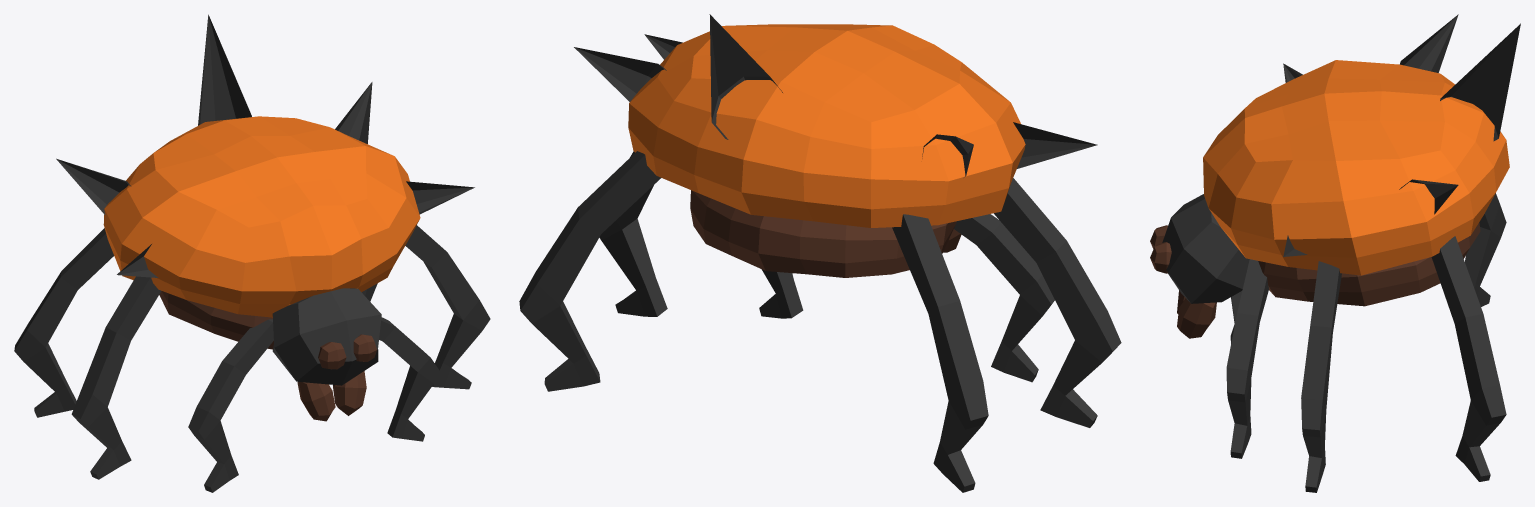
File: soldier.glb
The picture shows the model from 3 angles, left to right: view 1: azimuth 30°, elevation 25°; view 2: azimuth 150°, elevation 25°; view 3: azimuth 270°, elevation 25°; orthographic projection. The views are drawn at different scales.
Parts seen in each view (by area): view 1: Cube, Plane.001, Plane, Cube.001, Cube.004, Cube.003, Cube.006, Cube.005, Cube.002, Cube.007; view 2: Cube, Plane.001, Cube.006, Plane, Cube.004, Cube.003, Cube.002; view 3: Cube, Plane.001, Cube.001, Cube.006, Plane, Cube.004, Cube.003, Cube.005, Cube.007, Cube.002.
Part boxes in pixels (left/top/right/bottom): Cube: left=103, top=116, right=420, bottom=317; Plane.001: left=14, top=225, right=490, bottom=479; Plane: left=188, top=317, right=440, bottom=492; Cube.001: left=272, top=288, right=381, bottom=385; Cube.004: left=198, top=14, right=251, bottom=125; Cube.003: left=56, top=82, right=372, bottom=215; Cube.006: left=159, top=291, right=273, bottom=349; Cube.005: left=297, top=371, right=366, bottom=421; Cube.002: left=117, top=181, right=474, bottom=277; Cube.007: left=318, top=334, right=376, bottom=369; Cube: left=628, top=24, right=1025, bottom=227; Plane.001: left=519, top=151, right=1121, bottom=492; Cube.006: left=690, top=190, right=956, bottom=277; Plane: left=759, top=214, right=1054, bottom=382; Cube.004: left=709, top=14, right=782, bottom=139; Cube.003: left=574, top=47, right=973, bottom=177; Cube.002: left=644, top=34, right=1097, bottom=168; Cube: left=1203, top=60, right=1509, bottom=275; Plane.001: left=1301, top=193, right=1506, bottom=492; Cube.001: left=1162, top=194, right=1249, bottom=303; Cube.006: left=1258, top=222, right=1480, bottom=306; Plane: left=1226, top=259, right=1268, bottom=458; Cube.004: left=1440, top=23, right=1520, bottom=141; Cube.003: left=1399, top=14, right=1458, bottom=214; Cube.005: left=1177, top=290, right=1216, bottom=338; Cube.007: left=1150, top=225, right=1171, bottom=273; Cube.002: left=1283, top=63, right=1307, bottom=256.
Size of the model in its own units: 9.98 by 8.16 by 7.04.
